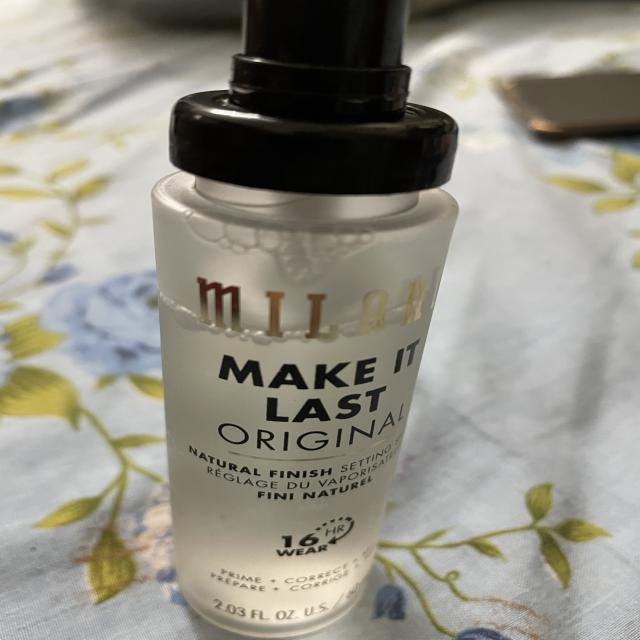setting spray: (114, 5, 506, 640)
